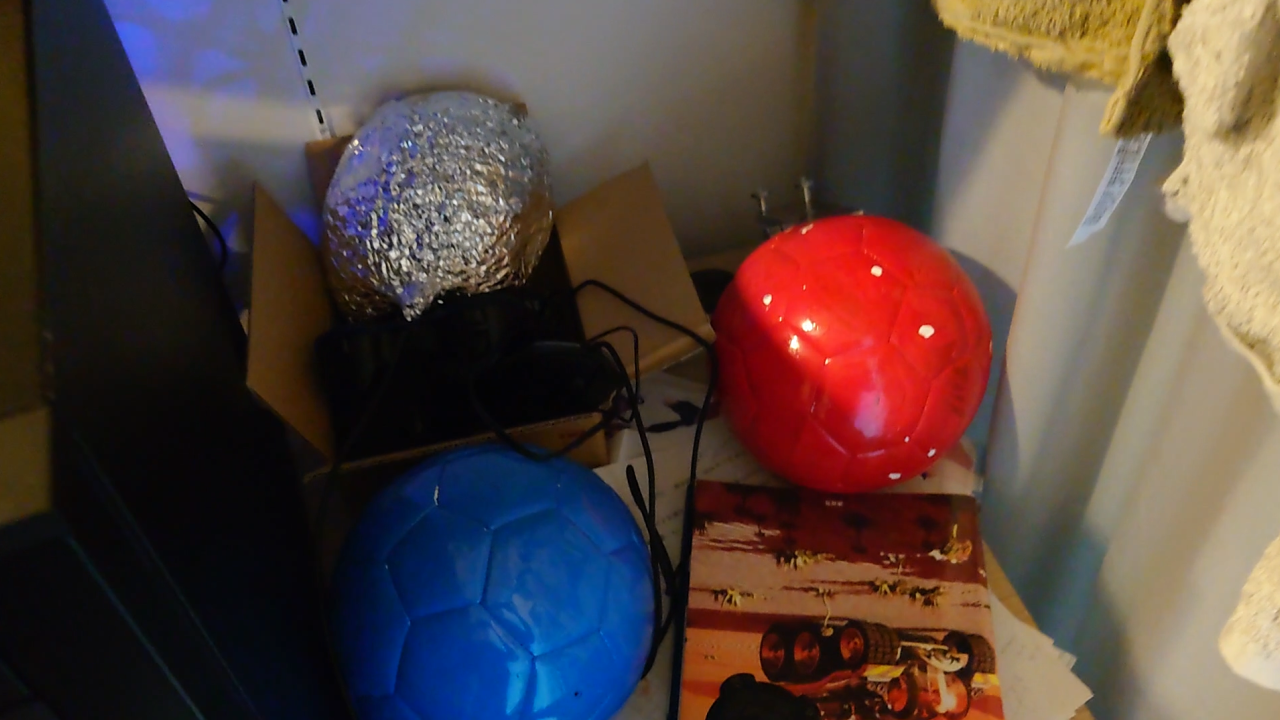blue: (341, 453, 649, 717)
red: (719, 212, 992, 489)
